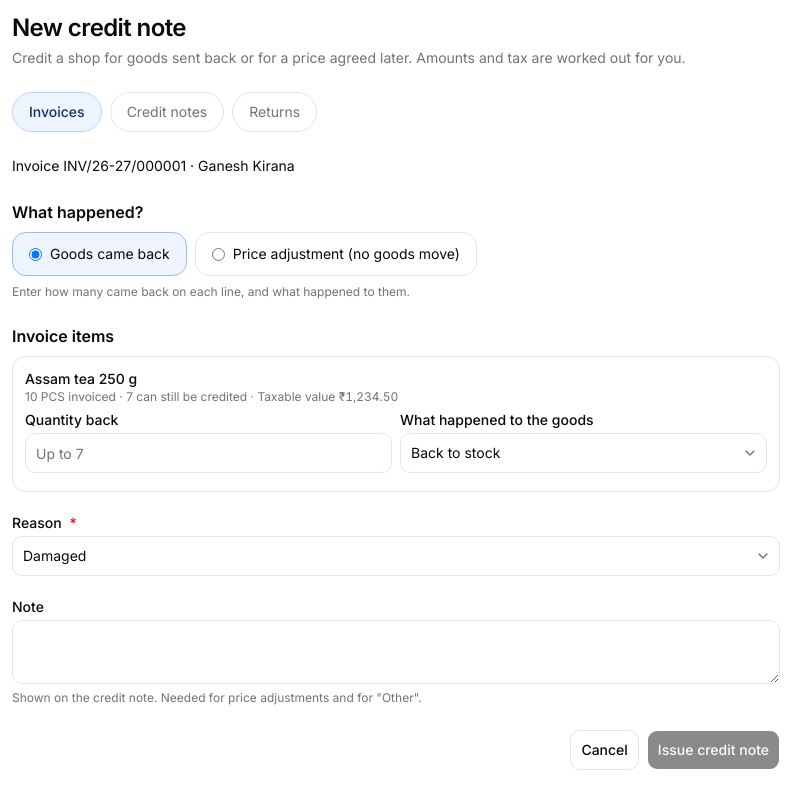
Scenario: New credit note › switches to a price adjustment with a taxable value per line
The width and height of the screenshot is (800, 787).
Click the radio button labelled "Price adjustment (no goods move)": x=218, y=254 [212, 248, 225, 260]
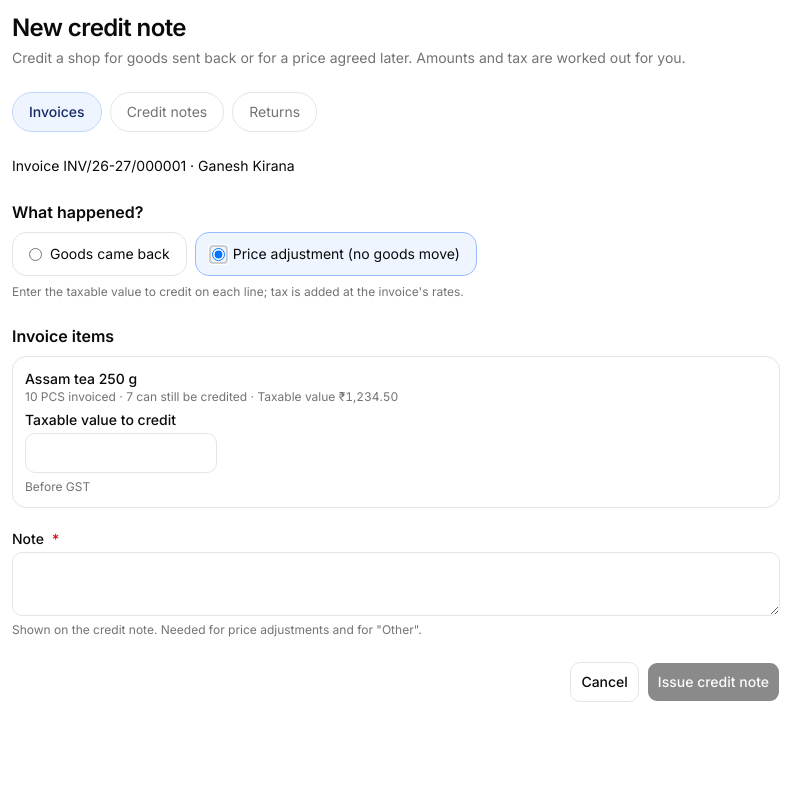
In the field labelled "Taxable value to credit": x=121, y=453 [25, 433, 217, 473], type "100"
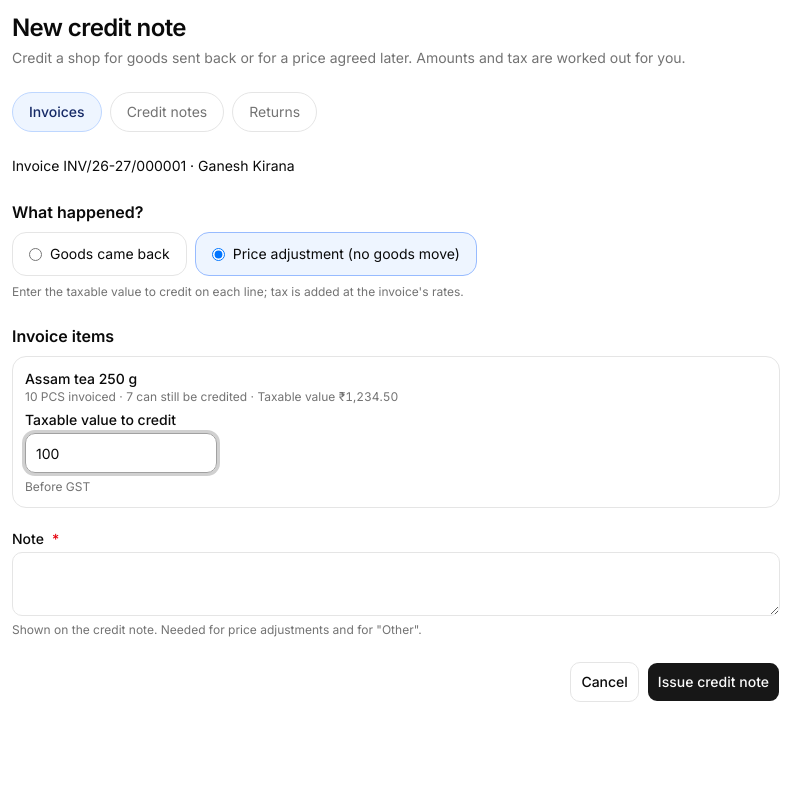
Click the button "Issue credit note": x=713, y=682 [647, 662, 780, 702]
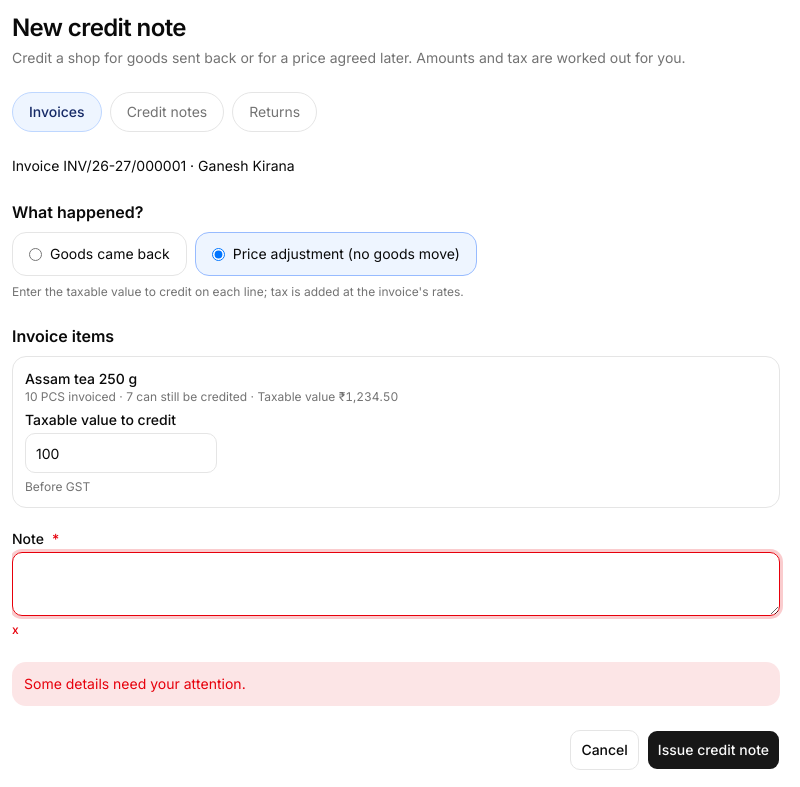
Now the text "x" is shown, box [12, 622, 19, 637]
